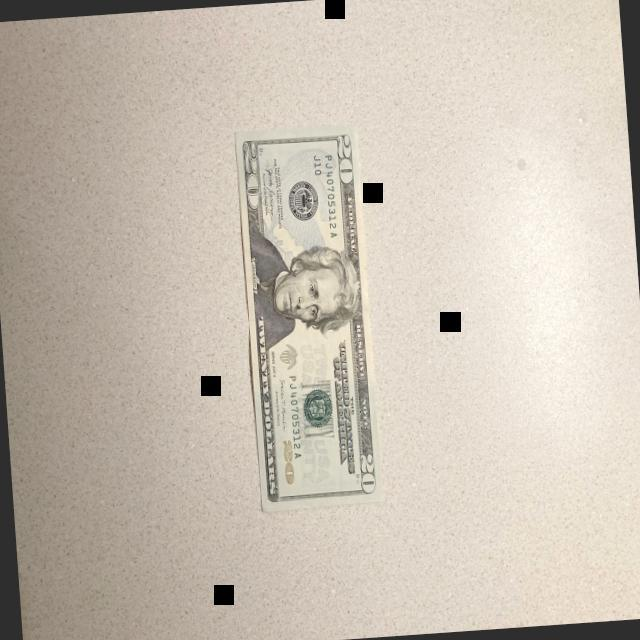twenty: (234, 123, 382, 516)
